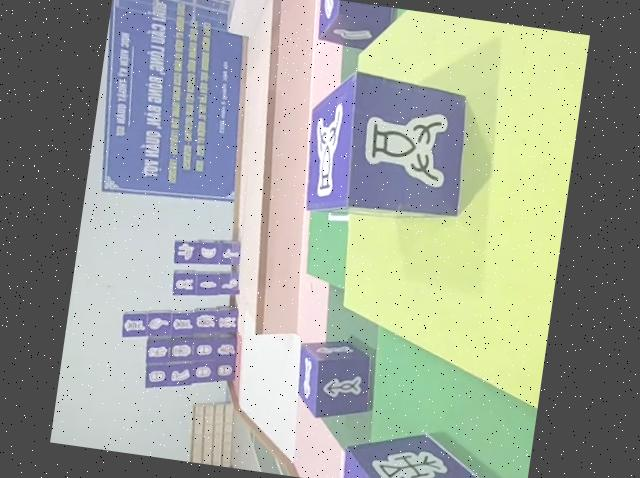R2 Real Blue: (296, 66, 479, 233), (340, 424, 510, 478), (292, 332, 382, 424), (315, 0, 399, 54)
